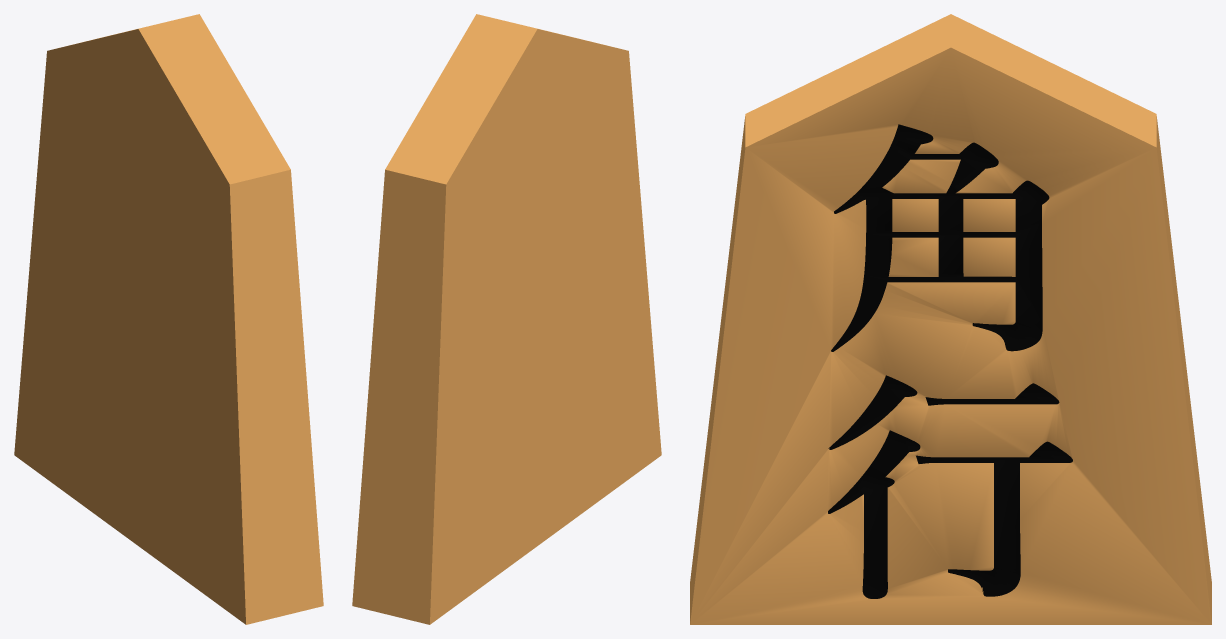
The model's file is JapaneseChessBishop.fbx.
3 renders of one model, left to right at view 1: azimuth 30°, elevation 25°; view 2: azimuth 150°, elevation 25°; view 3: azimuth 270°, elevation 25°, orthographic. The views are drawn at different scales.
Visible parts, largest first — view 1: Cube; view 2: Cube; view 3: Cube.
Boxes of the visible parts, x1=… form: Cube: x1=14, y1=14, x2=323, y2=624; Cube: x1=352, y1=14, x2=661, y2=624; Cube: x1=690, y1=14, x2=1211, y2=624.
Bounding box in the file's own units: 38.67 × 242 × 200.
2 materials, 2 textured.
